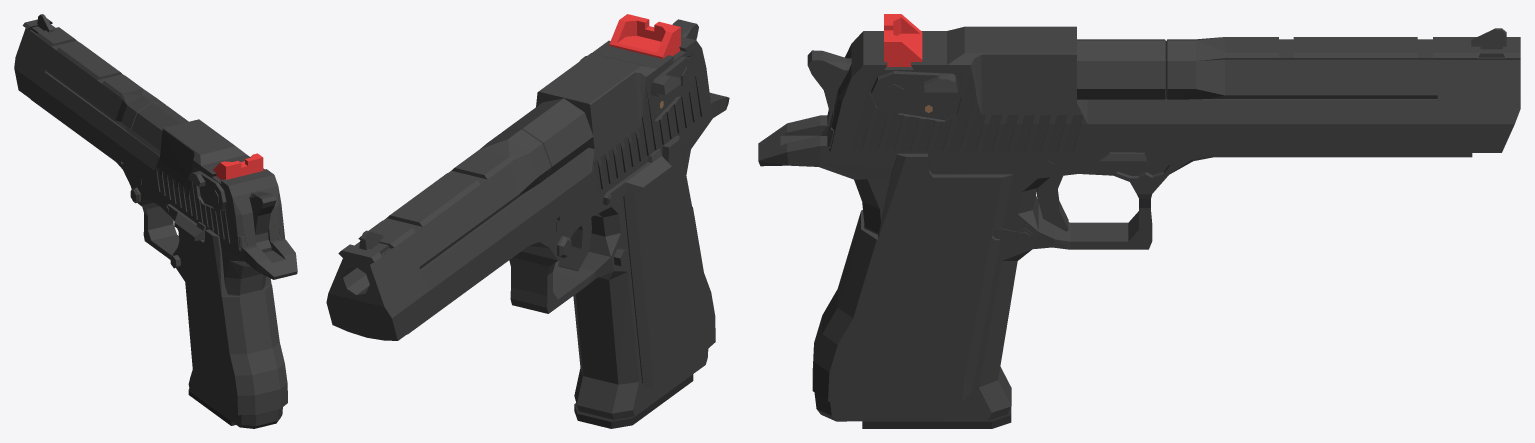
File: pistol_3.glb
3 views of the same model, side by side, from view 1: azimuth 30°, elevation 25°; view 2: azimuth 150°, elevation 25°; view 3: azimuth 270°, elevation 25° (orthographic). The views are drawn at different scales.
Parts seen in each view (by area): view 1: p15_paint, p5_paint, p0_paint, p4_paint, p22_paint, p19_del, p17_paint, p12_paint; view 2: p0_paint, p5_paint, p4_paint, p15_paint, p19_del, p12_paint, p17_paint, p26_mag, p11_paint, p1_paint; view 3: p5_paint, p15_paint, p0_paint, p4_paint, p16_paint, p19_del, p22_paint, p26_mag, p11_paint, p8_paint, p1_paint.
Part boxes in pixels (x1,y1,x2,y2): p15_paint: [181, 229, 287, 415]; p5_paint: [39, 71, 285, 250]; p0_paint: [14, 18, 188, 155]; p4_paint: [31, 99, 297, 428]; p22_paint: [249, 190, 276, 252]; p19_del: [213, 153, 263, 179]; p17_paint: [188, 171, 226, 210]; p12_paint: [165, 204, 205, 240]; p0_paint: [326, 98, 593, 340]; p5_paint: [420, 36, 711, 317]; p4_paint: [407, 92, 729, 419]; p15_paint: [623, 135, 715, 388]; p19_del: [609, 14, 680, 58]; p12_paint: [603, 149, 671, 205]; p17_paint: [650, 56, 696, 96]; p26_mag: [574, 374, 693, 428]; p11_paint: [558, 218, 591, 271]; p1_paint: [355, 230, 389, 253]; p5_paint: [829, 26, 1437, 151]; p15_paint: [812, 153, 1012, 402]; p0_paint: [1076, 37, 1520, 152]; p4_paint: [758, 109, 1472, 421]; p16_paint: [871, 71, 958, 115]; p19_del: [884, 14, 922, 66]; p22_paint: [807, 50, 851, 135]; p26_mag: [862, 407, 1011, 428]; p11_paint: [1037, 175, 1068, 231]; p8_paint: [1099, 152, 1148, 171]; p1_paint: [1471, 28, 1506, 57].
Bounding box in the file's own units: 0.0403 × 0.1507 × 0.27.
